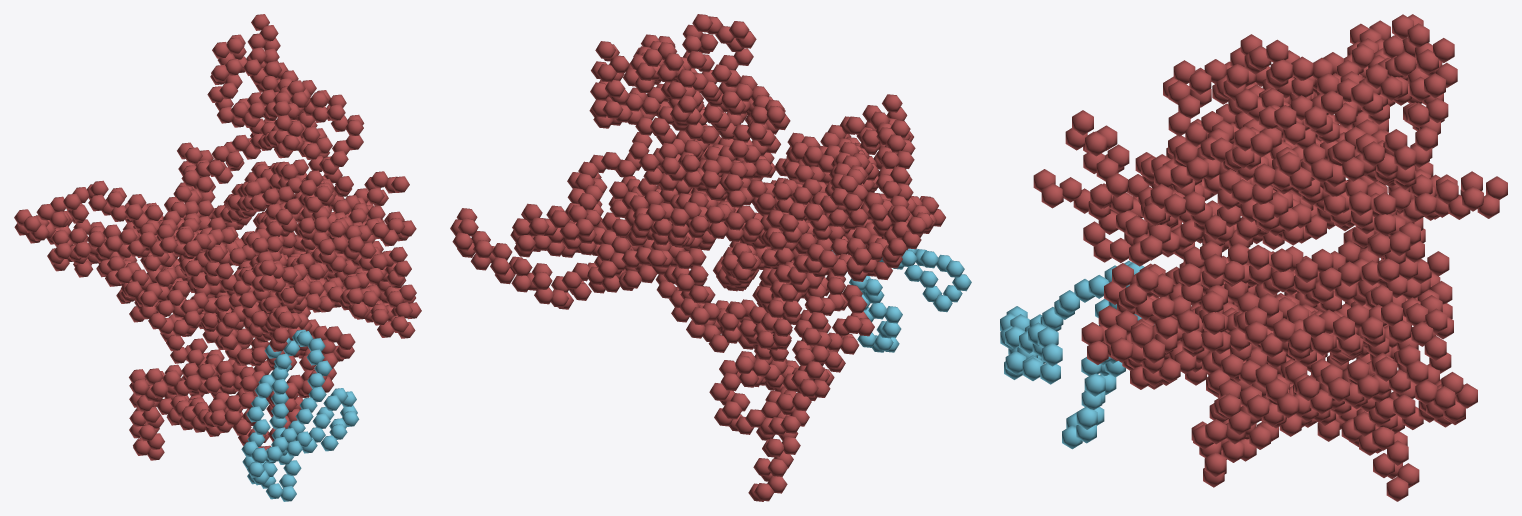
File: nav_channel_cryo.glb
3 views of the same model, side by side, from view 1: azimuth 30°, elevation 25°; view 2: azimuth 150°, elevation 25°; view 3: azimuth 270°, elevation 25° (orthographic). The views are drawn at different scales.
Bounding box in the file's own units: 1.86 × 1.75 × 1.5.
